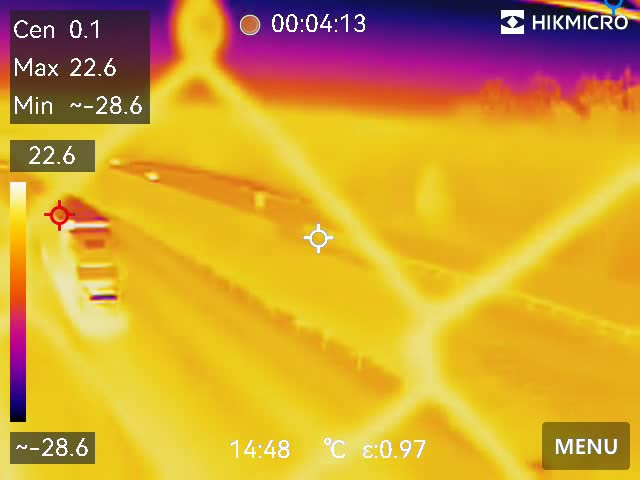heavyTruck: (40, 182, 138, 319)
